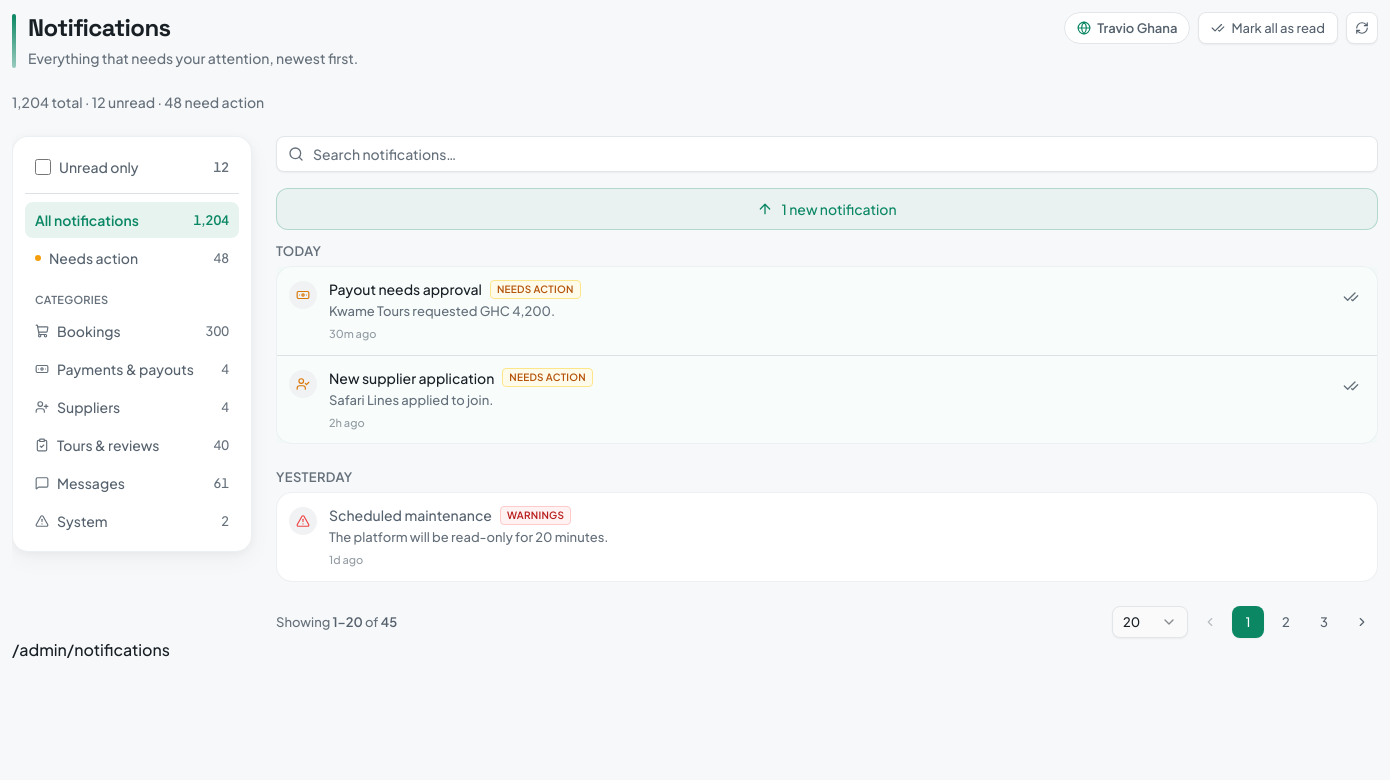
Test: NotificationsPage › holds its position when new notifications arrive, then applies them on request
Check: the text "Payout needs approval" is shown, box x1=329 y1=279 x2=482 y2=299
Click the button "1 new notification".
click(827, 209)  # box x1=276 y1=188 x2=1378 y2=230
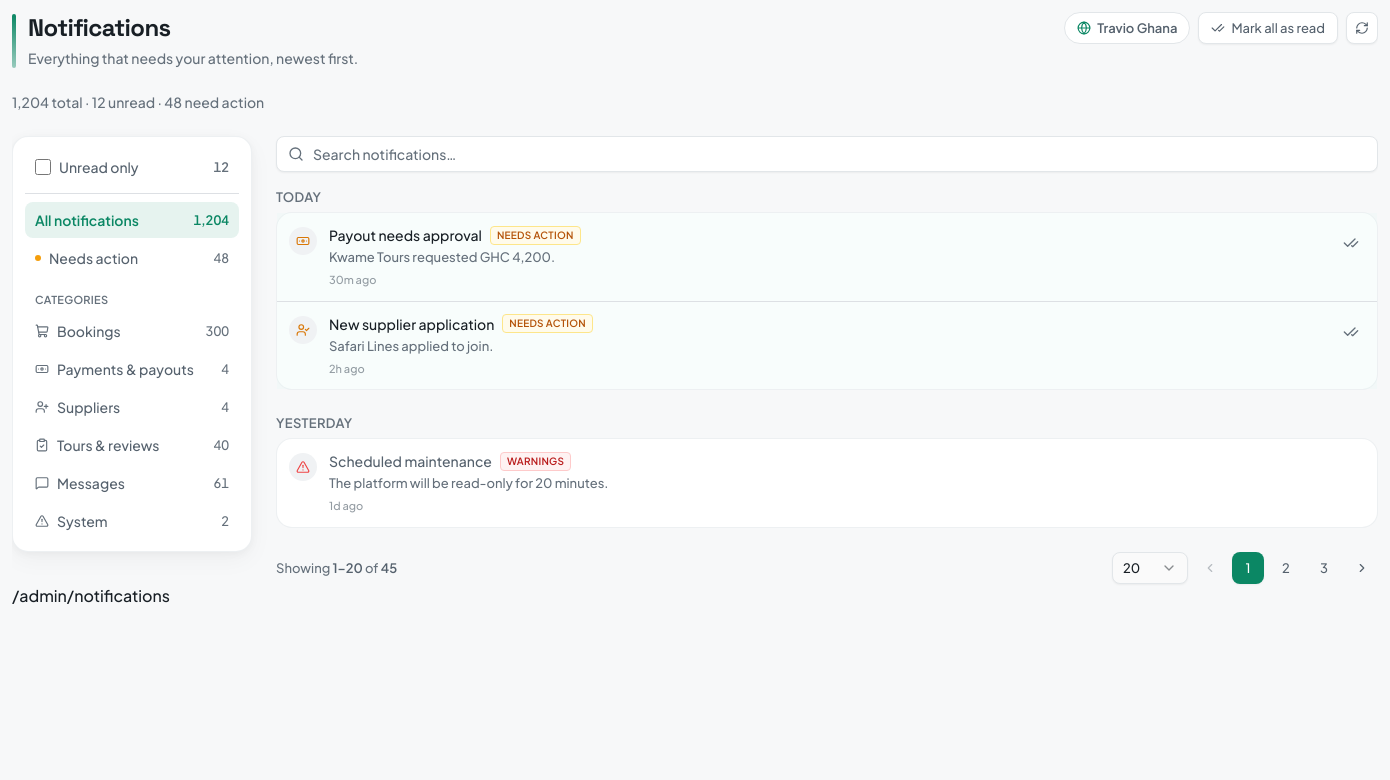
Check: the button "new notification" is gone
